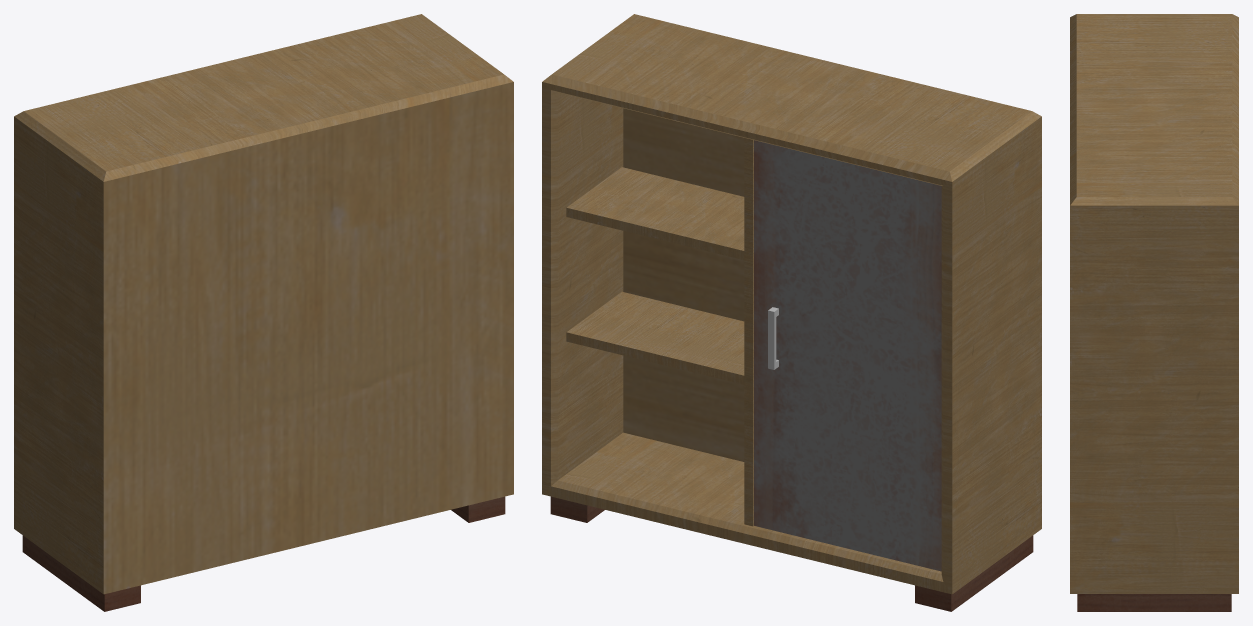
Rendered from Closet.fbx.
3 views of the same model, side by side, from view 1: azimuth 30°, elevation 25°; view 2: azimuth 150°, elevation 25°; view 3: azimuth 270°, elevation 25° (orthographic). The views are drawn at different scales.
Visible parts, largest first — view 1: Closet; view 2: Closet; view 3: Closet.
Boxes of the visible parts, box(x1,y1,x2,y2) form: Closet: box(14, 14, 513, 611); Closet: box(542, 14, 1041, 611); Closet: box(1070, 14, 1238, 611).
Bounding box in the file's own units: 200 × 205 × 75.66.
